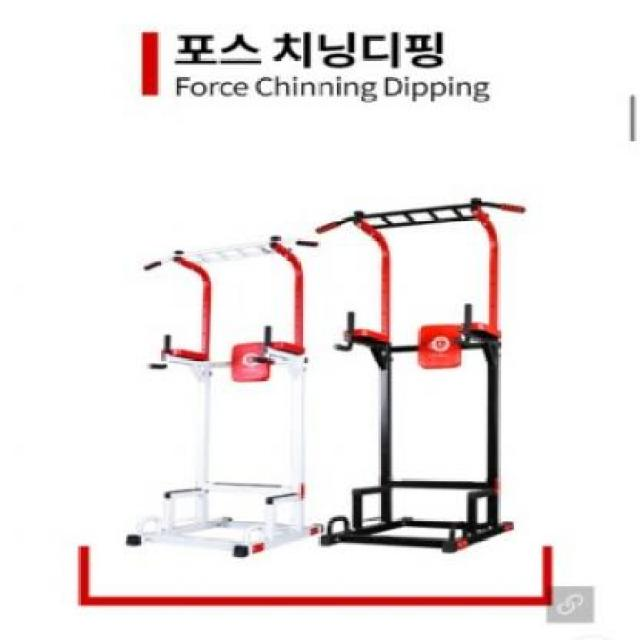chinning dipping: (126, 234, 323, 558)
